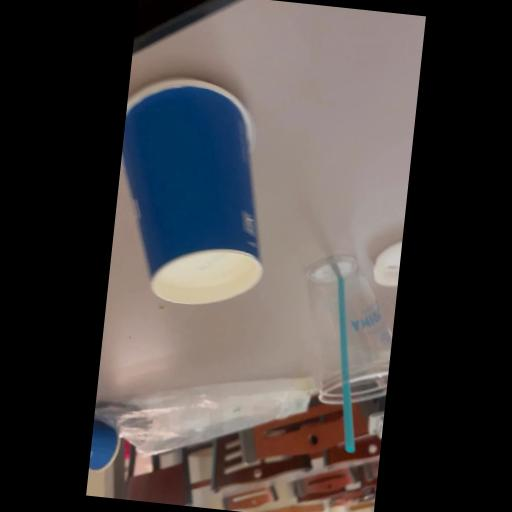lp_paper_cup: (106, 70, 286, 317)
lp_plastic_cup: (292, 252, 400, 408)
